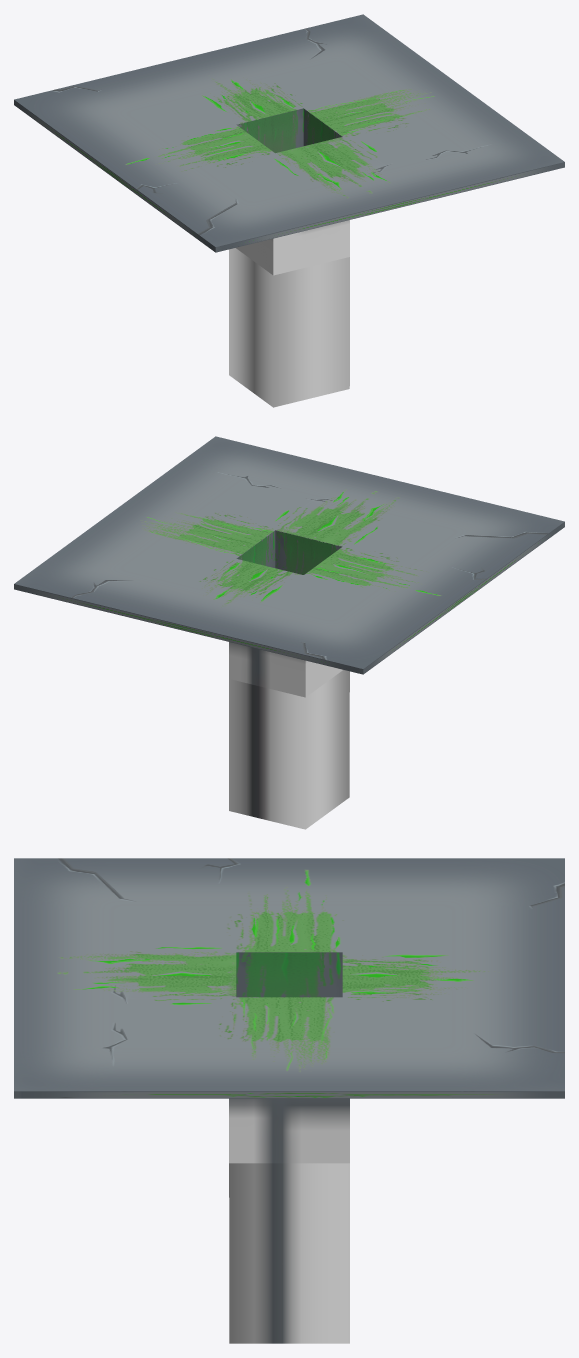
Rendered from 7x7 centar rupa.fbx.
3 renders of one model, top to bottom at view 1: azimuth 30°, elevation 25°; view 2: azimuth 150°, elevation 25°; view 3: azimuth 270°, elevation 25°, orthographic. The views are drawn at different scales.
Parts seen in each view (by area): view 1: Cube.002, Cube_008.001; view 2: Cube.002, Cube_008.001; view 3: Cube.002, Cube_008.001.
Boxes of the visible parts, left/top/right/bottom form: Cube.002: left=14, top=14, right=564, bottom=252; Cube_008.001: left=229, top=108, right=349, bottom=407; Cube.002: left=14, top=436, right=564, bottom=674; Cube_008.001: left=229, top=530, right=349, bottom=829; Cube.002: left=14, top=858, right=564, bottom=1098; Cube_008.001: left=229, top=952, right=349, bottom=1343.
Size of the model in its own units: 700 by 481 by 700.
3 materials, 2 textured.
